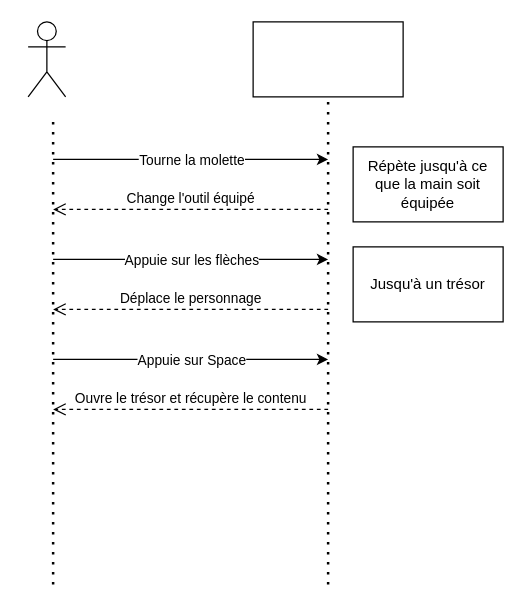
This 525x609 diagram has some shape labels left out. Each missing label, with the centre of its shape:
": Système" goes at point 327,59.
":Joueur" goes at point 46,59.
